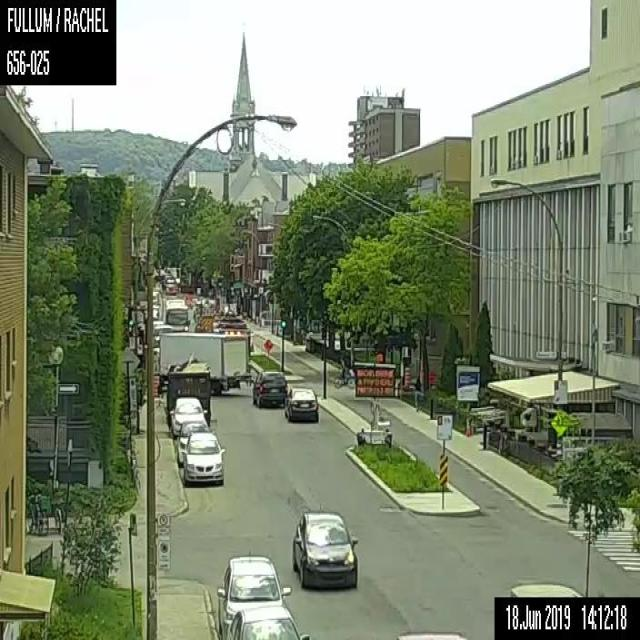bus: (164, 298, 190, 332)
construction: (354, 362, 395, 446), (152, 374, 158, 396), (404, 366, 410, 386), (262, 338, 272, 349)
cyclist: (333, 355, 353, 387)
vehicle: (216, 555, 291, 638), (152, 332, 251, 393), (291, 510, 358, 589), (225, 605, 309, 639), (181, 431, 225, 485), (170, 397, 208, 437), (176, 420, 208, 466), (250, 370, 288, 408), (284, 387, 318, 421), (395, 632, 470, 639), (152, 325, 172, 345), (160, 273, 176, 294), (152, 320, 165, 326)
